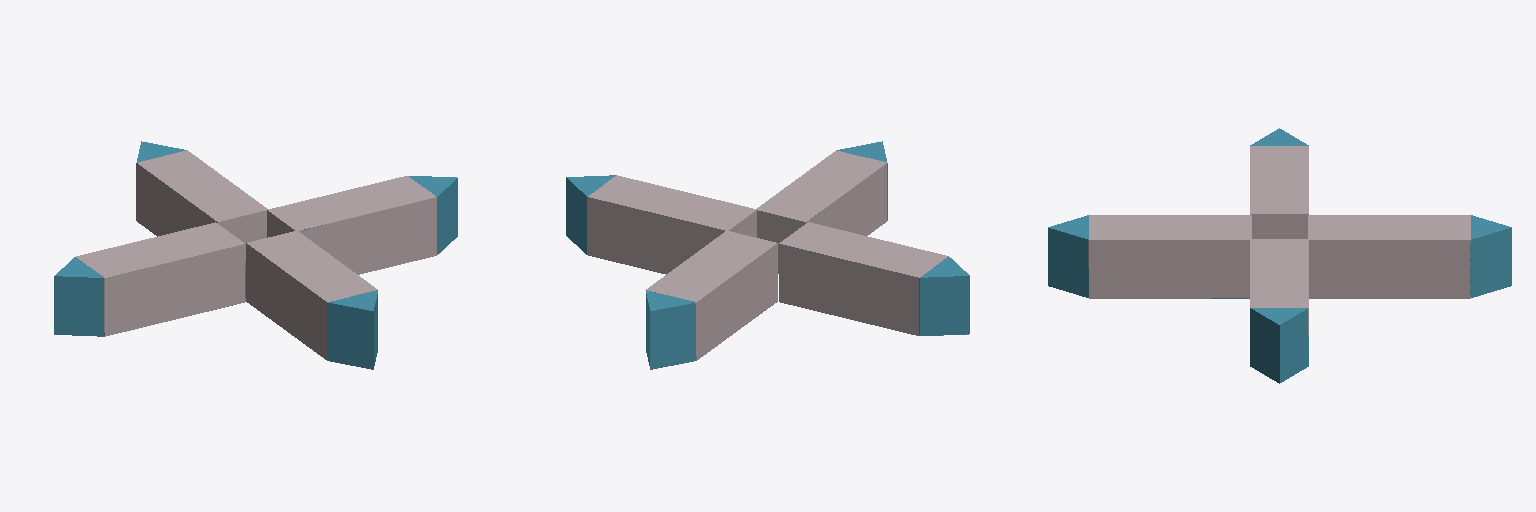
3 views of the same model, side by side, from view 1: azimuth 30°, elevation 25°; view 2: azimuth 150°, elevation 25°; view 3: azimuth 270°, elevation 25° (orthographic).
Visible parts, largest first — view 1: Cube.001, Cube.002, Cube, Cube.003; view 2: Cube.001, Cube.002, Cube.003, Cube; view 3: Cube.003, Cube, Cube.002, Cube.001.
Boxes of the visible parts, x1,y1,x2,y2 form: Cube.001: [54, 222, 245, 336]; Cube.002: [267, 176, 457, 274]; Cube: [246, 231, 377, 369]; Cube.003: [136, 141, 267, 243]; Cube.001: [779, 222, 969, 335]; Cube.002: [566, 175, 756, 274]; Cube.003: [646, 231, 777, 369]; Cube: [755, 141, 887, 273]; Cube.003: [1308, 215, 1511, 298]; Cube: [1048, 215, 1251, 298]; Cube.002: [1250, 239, 1308, 383]; Cube.001: [1250, 128, 1308, 238].
Bounding box in the file's own units: 3.41 × 0.4729 × 3.4.
4 materials, 1 textured.